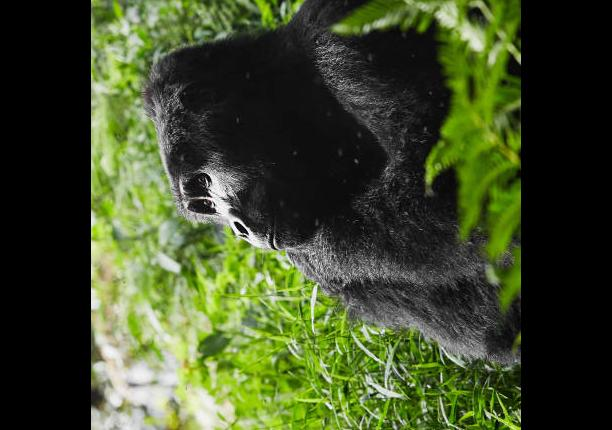goriile_montagne: (138, 0, 521, 349)
